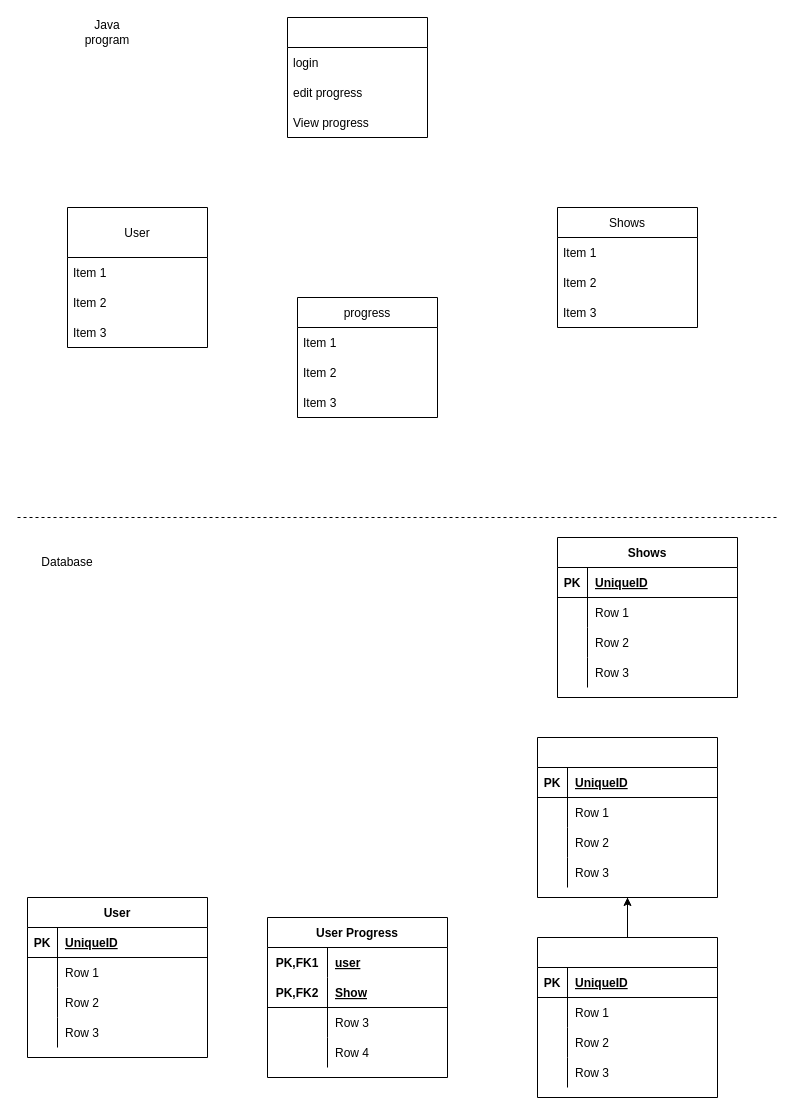
Image size: 796x1115. Some labels were removed from this diagram. Each missing label, with the box of its shape:
Episode: (536, 936, 718, 1098)
menu: (286, 16, 428, 138)
Seasons: (536, 736, 718, 898)
